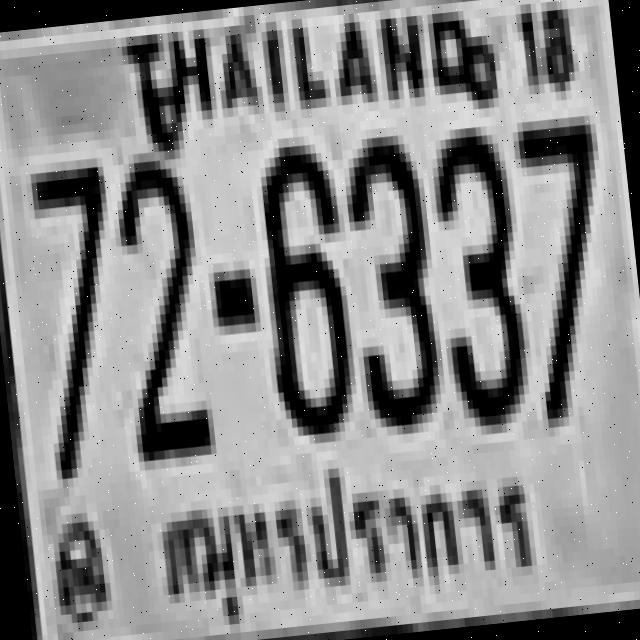2: (107, 153, 211, 457)
3: (334, 124, 444, 428), (422, 116, 526, 420)
6: (247, 134, 356, 438)
7: (510, 107, 615, 419), (23, 158, 128, 470), (23, 158, 122, 416)
SamutPrakan: (148, 446, 544, 636)
